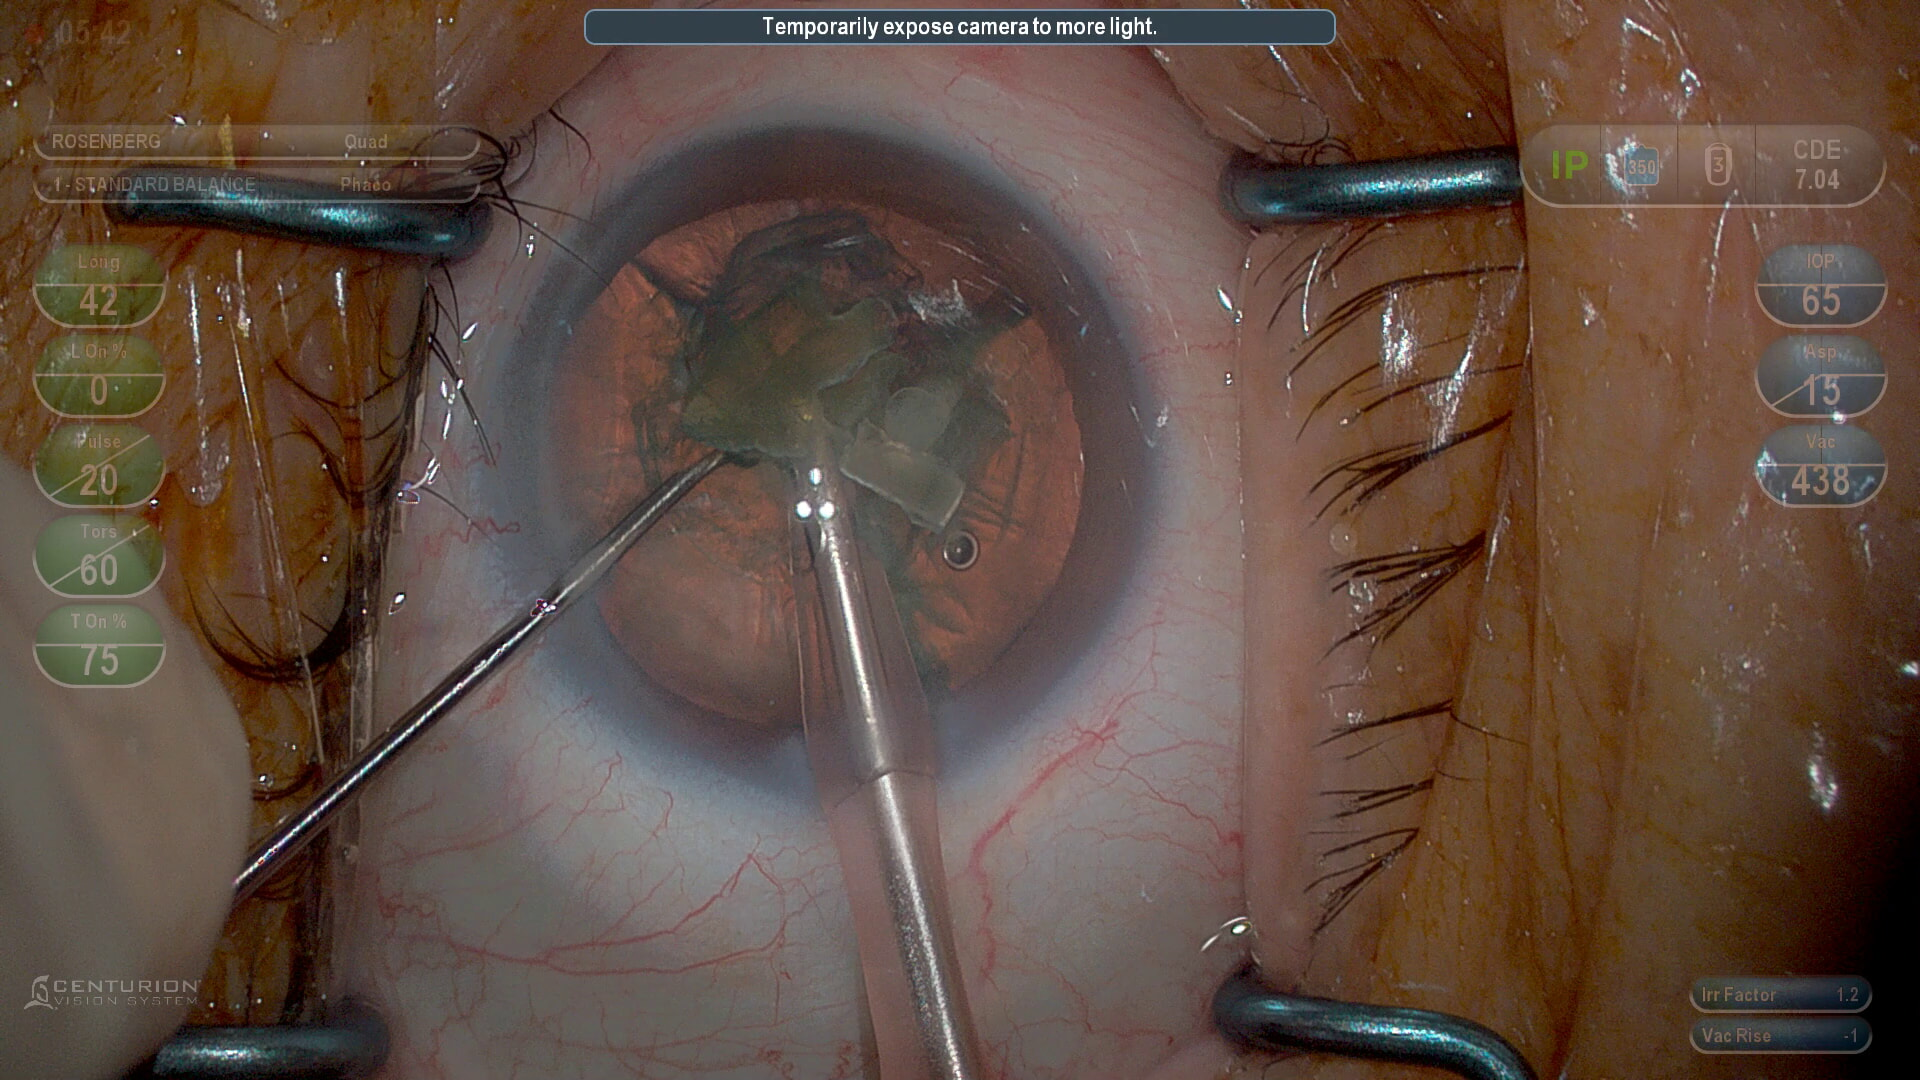iris: (496, 129, 1157, 795)
pupil: (542, 194, 1093, 719)
